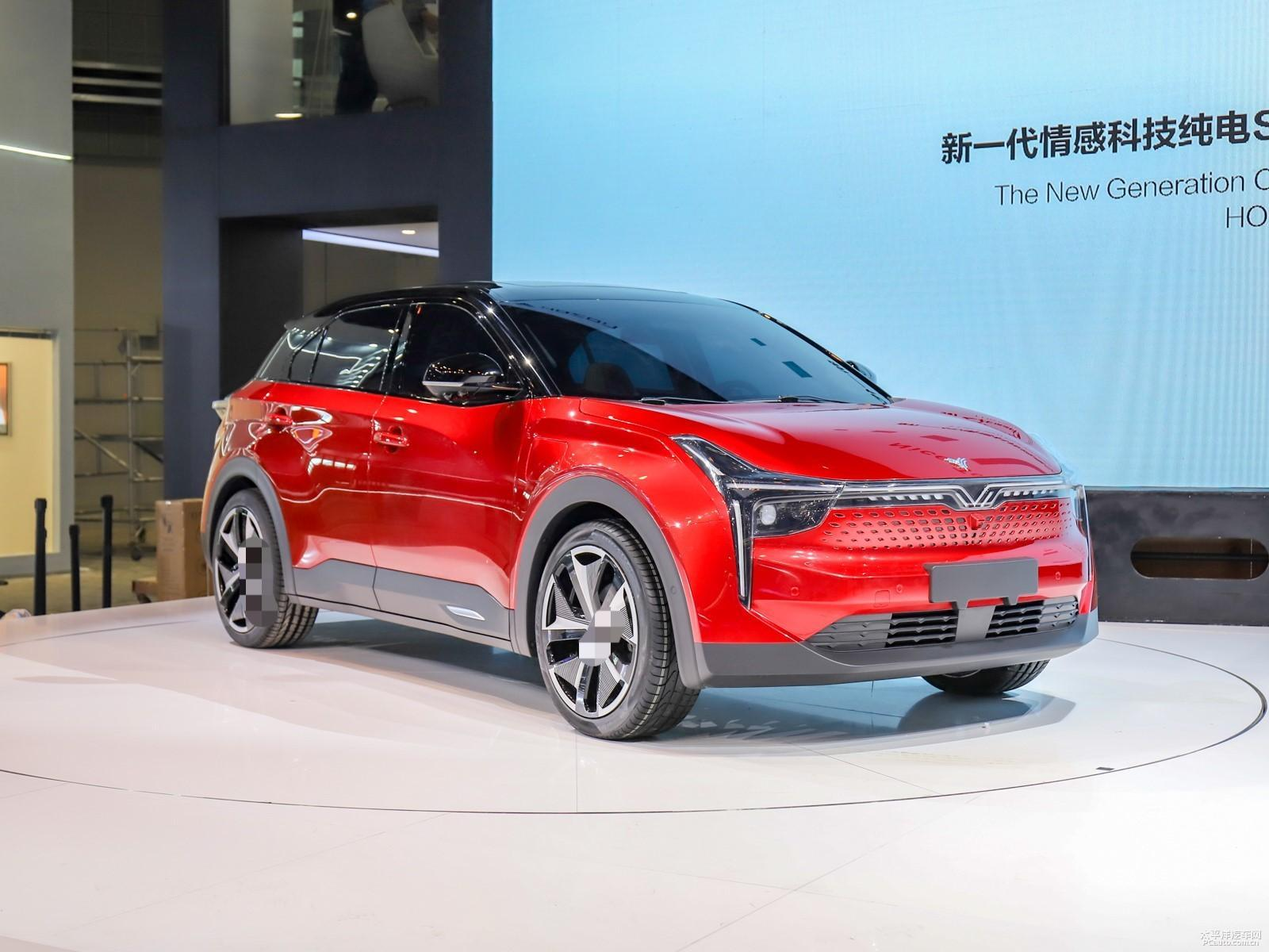NETA: (943, 456, 970, 472)
